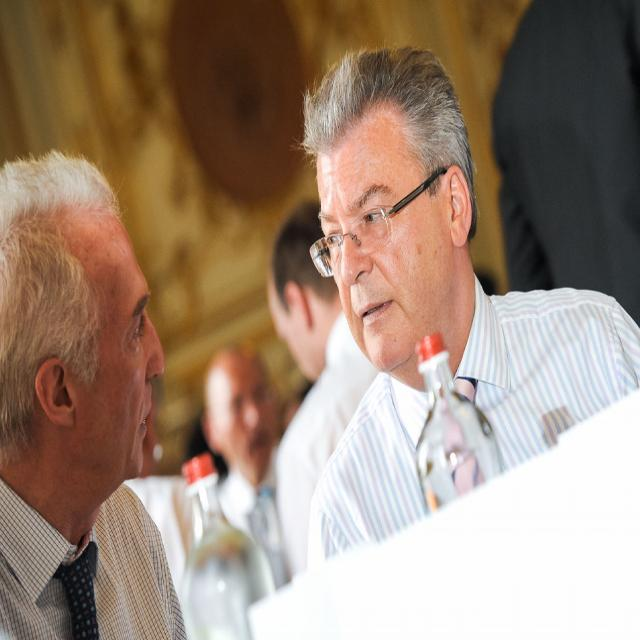Glasses: (289, 167, 464, 264)
